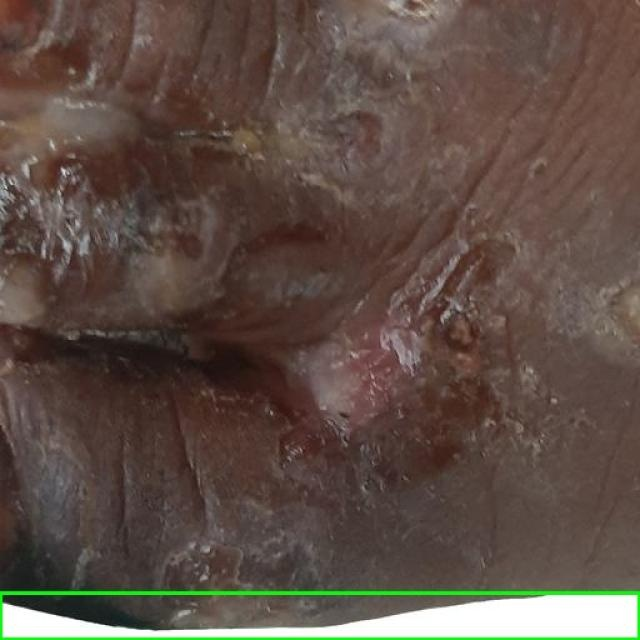Eczema: (0, 592, 639, 639)
